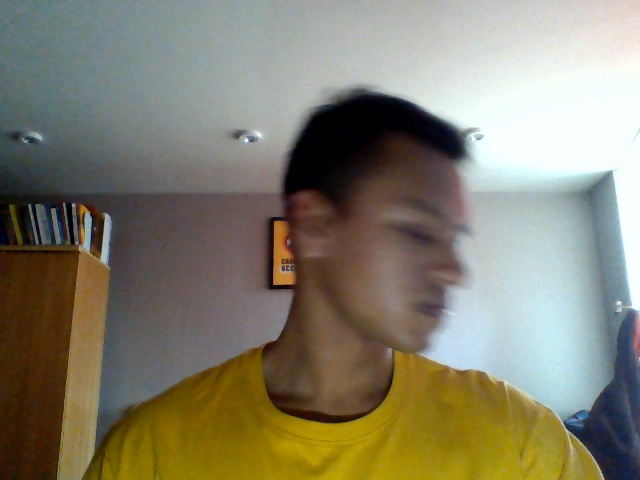no_mask: (345, 257, 469, 356)
